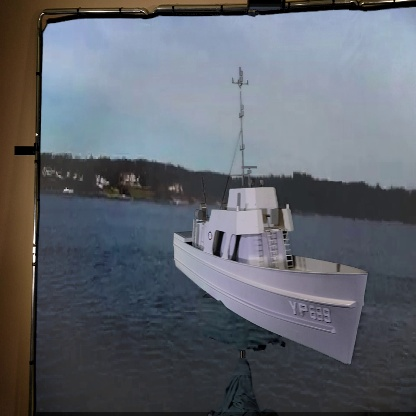YP689: (173, 68, 367, 365)
